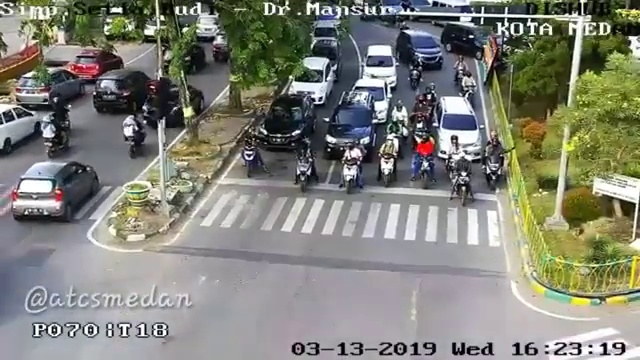car: (13, 159, 100, 226), (325, 91, 377, 161), (432, 96, 481, 162), (16, 66, 84, 110), (260, 96, 313, 148), (94, 68, 151, 113), (145, 87, 205, 129), (290, 56, 334, 111), (1, 102, 40, 159), (441, 21, 494, 62), (397, 29, 443, 74), (72, 46, 123, 86), (352, 80, 389, 127), (363, 46, 396, 90), (313, 38, 342, 79), (312, 22, 340, 54), (196, 12, 222, 42)
motorbike: (238, 123, 265, 179), (295, 137, 319, 194), (484, 131, 505, 193), (452, 155, 476, 207), (42, 115, 69, 160), (340, 140, 363, 192), (413, 135, 435, 187), (122, 114, 146, 161), (379, 130, 399, 186), (393, 98, 409, 146), (447, 135, 462, 184), (413, 96, 429, 139), (462, 71, 477, 112), (407, 56, 421, 93), (452, 55, 465, 91)
